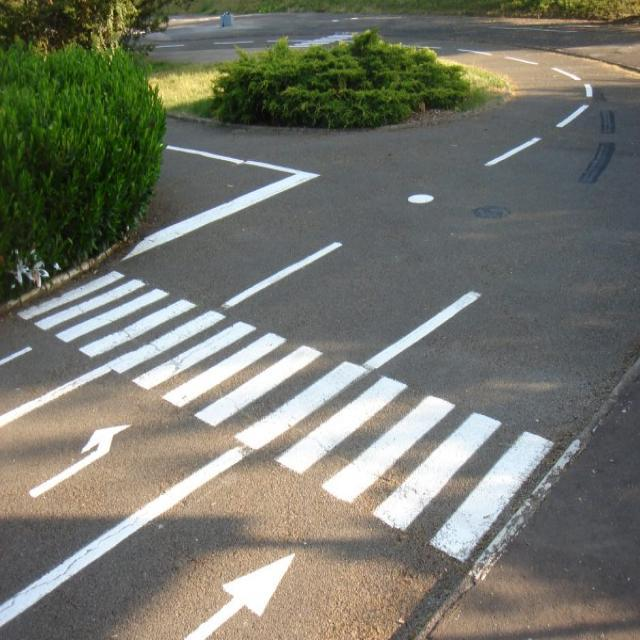crosswalk: (12, 262, 587, 582)
